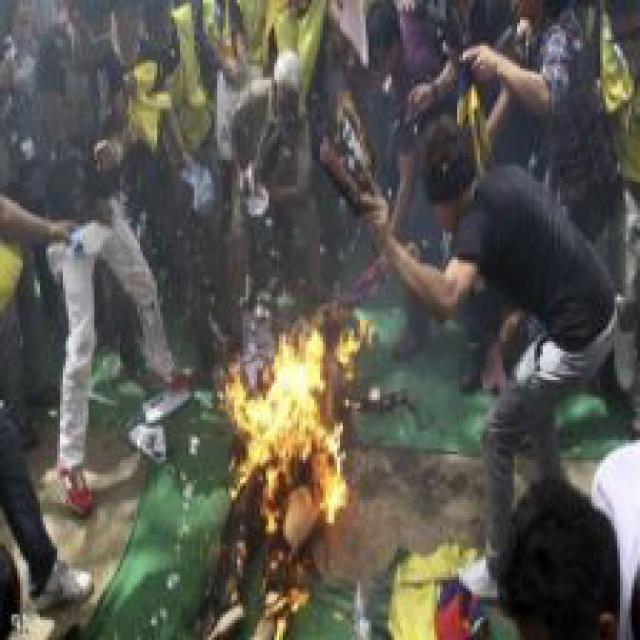fire: (200, 286, 374, 548)
